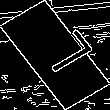L_SW: (21, 28, 89, 82)
